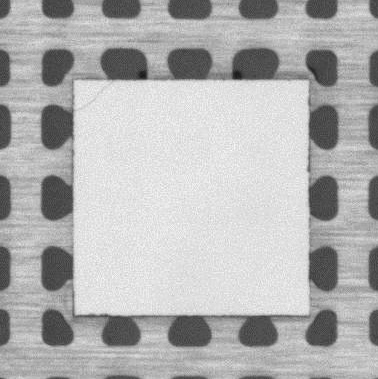DIE_CRACK: (74, 80, 118, 110)
